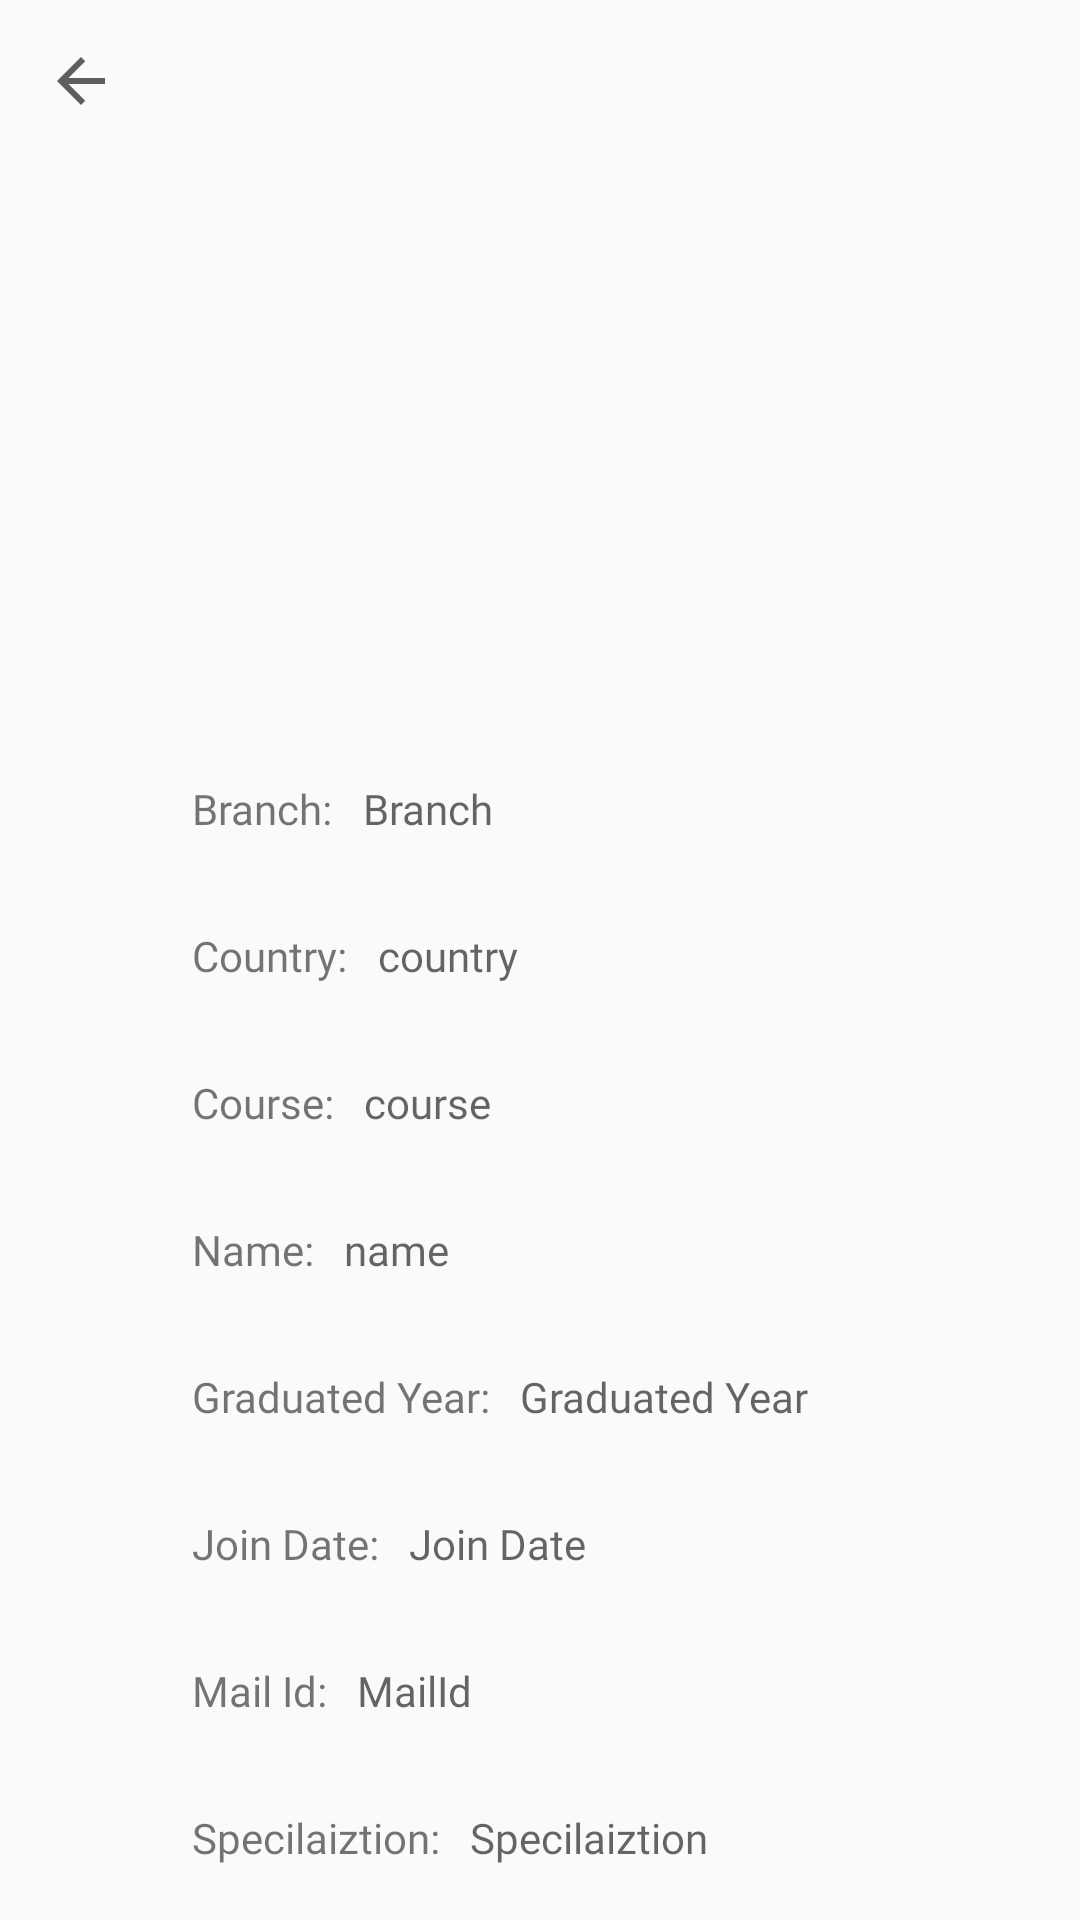

Where icons sit on this 1080px x 1920px app screen, as bbox=(x1, y1, x2, y2):
arrow back: bbox=(57, 57, 105, 105)
